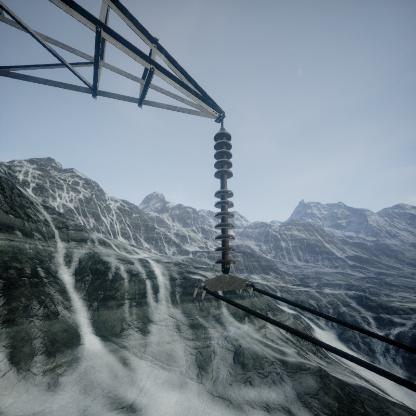insulator: (211, 128, 238, 274)
